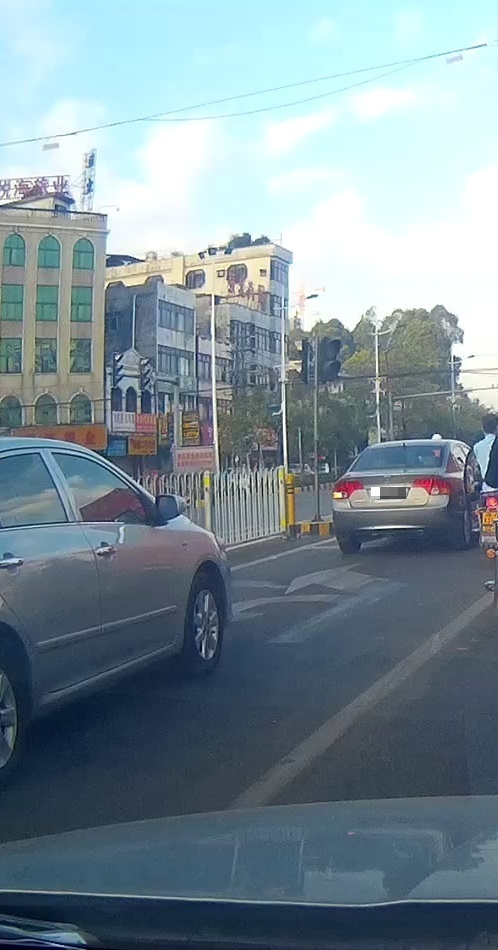L_light: (331, 480, 364, 500)
R_light: (412, 477, 452, 495)
T_light: (394, 447, 411, 451)
day-left: (331, 440, 455, 550)
plate_1: (371, 487, 406, 499)
